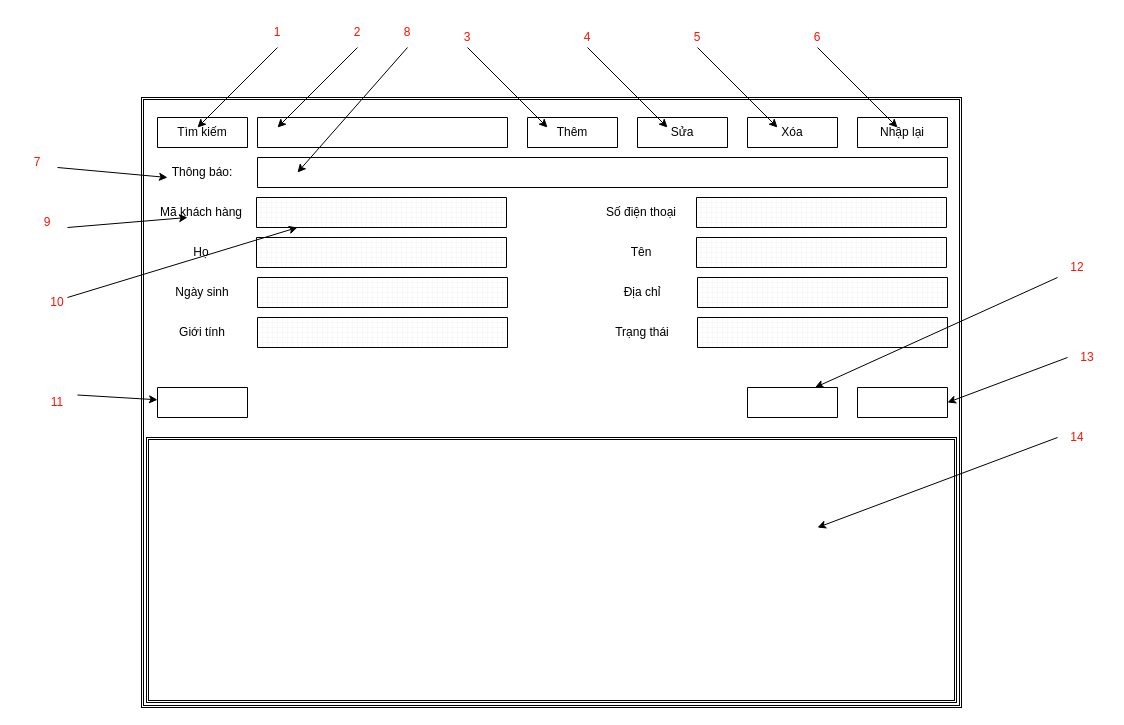
This 1124x725 diagram has some shape labels left out. The centre of each missing label's shape, as x and y in pixels:
Cập nhật: (x=202, y=402)
Nhập excel: (x=902, y=402)
Xuất excel: (x=792, y=402)
